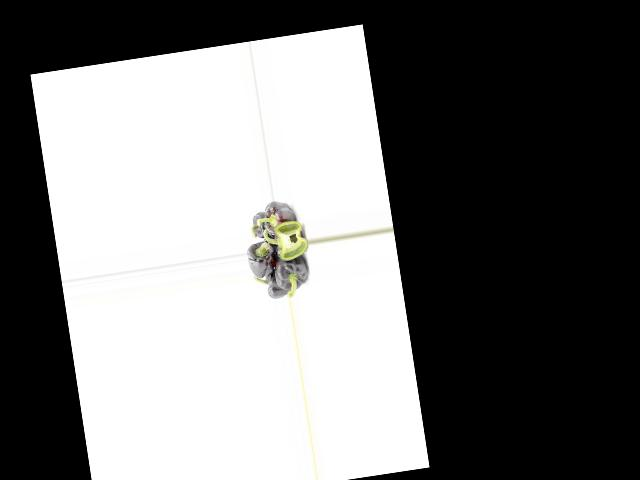bell_pepper: (261, 199, 297, 243)
